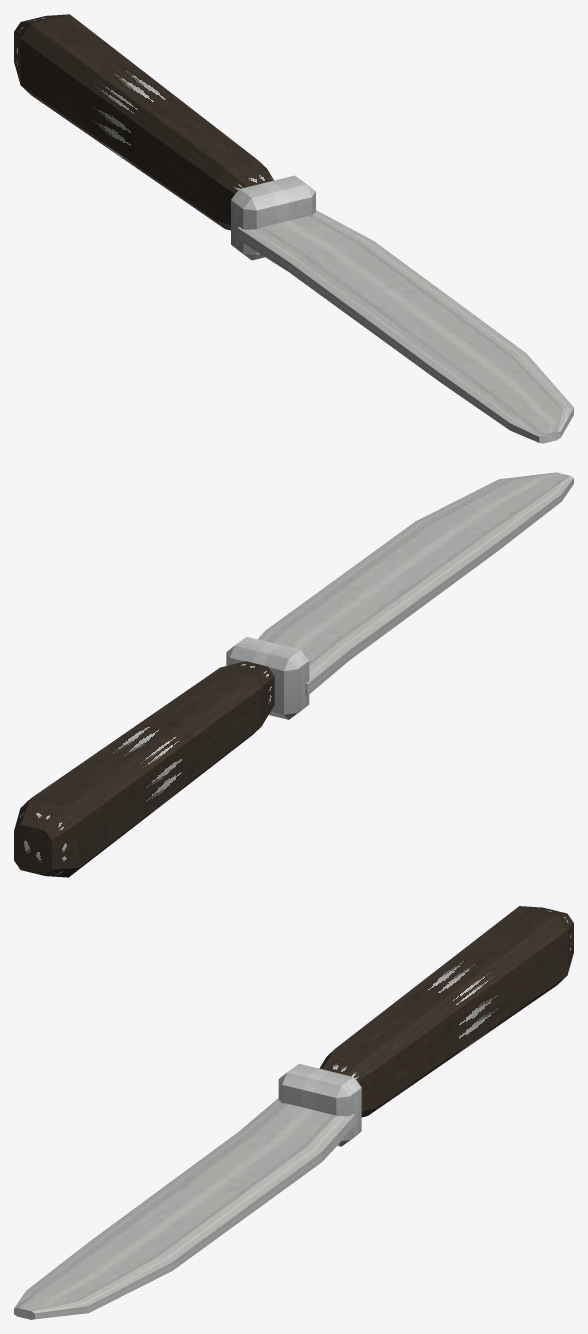
The model's file is knife.glb.
The picture shows the model from 3 angles, top to bottom: view 1: azimuth 30°, elevation 25°; view 2: azimuth 150°, elevation 25°; view 3: azimuth 330°, elevation 25°; orthographic projection. The views are drawn at different scales.
Visible parts, largest first — view 1: home_knife; view 2: home_knife; view 3: home_knife.
Part boxes in pixels (<box>): home_knife: <box>14,14,573,443</box>; home_knife: <box>14,472,573,877</box>; home_knife: <box>14,906,573,1319</box>.
Size of the model in its own units: 0.021 by 0.016 by 0.215.
1 material, 1 textured.
